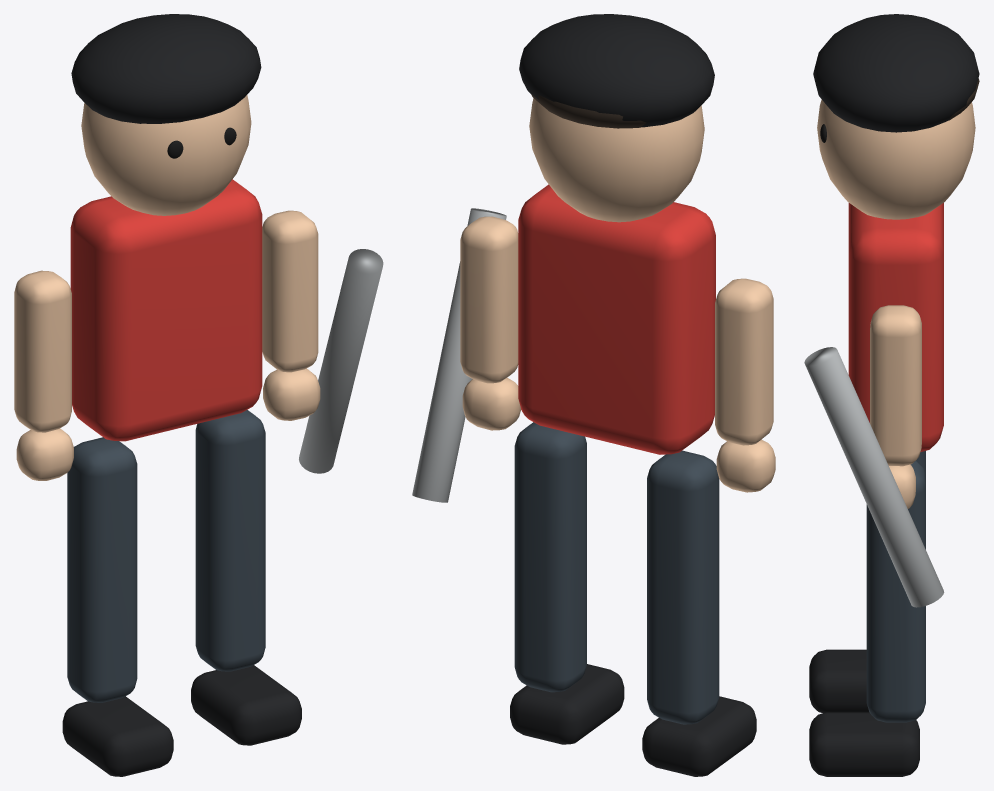
The model's file is cartoon_rioter.glb.
3 views of the same model, side by side, from view 1: azimuth 30°, elevation 25°; view 2: azimuth 150°, elevation 25°; view 3: azimuth 270°, elevation 25° (orthographic). The views are drawn at different scales.
Parts seen in each view (by area): view 1: rioter_torso, rioter_leg_L, rioter_leg_R, rioter_helmet, rioter_head, rioter_upper_arm_L, rioter_upper_arm_R, rioter_prop_bat, rioter_foot_mesh_L, rioter_foot_mesh_R, rioter_hand_R.001, rioter_hand_L.001; view 2: rioter_torso, rioter_leg_L, rioter_leg_R, rioter_helmet, rioter_head, rioter_upper_arm_R, rioter_upper_arm_L, rioter_prop_bat, rioter_foot_mesh_R, rioter_foot_mesh_L, rioter_hand_L.001, rioter_hand_R.001 (+1 smaller); view 3: rioter_helmet, rioter_torso, rioter_head, rioter_leg_R, rioter_prop_bat, rioter_upper_arm_R, rioter_foot_mesh_R, rioter_foot_mesh_L, rioter_hand_R.001.
Part boxes in pixels (x1,y1,x2,y2): rioter_torso: [70, 179, 262, 441]; rioter_leg_L: [67, 437, 137, 702]; rioter_leg_R: [195, 410, 265, 671]; rioter_helmet: [71, 14, 261, 123]; rioter_head: [81, 95, 251, 215]; rioter_upper_arm_L: [14, 270, 71, 432]; rioter_upper_arm_R: [262, 210, 318, 372]; rioter_prop_bat: [299, 249, 383, 473]; rioter_foot_mesh_L: [62, 696, 173, 776]; rioter_foot_mesh_R: [191, 665, 301, 745]; rioter_hand_R.001: [263, 368, 320, 420]; rioter_hand_L.001: [16, 428, 73, 480]; rioter_torso: [518, 184, 715, 454]; rioter_leg_L: [647, 450, 719, 724]; rioter_leg_R: [514, 422, 586, 692]; rioter_helmet: [519, 14, 714, 127]; rioter_head: [529, 98, 704, 222]; rioter_upper_arm_R: [460, 216, 518, 383]; rioter_upper_arm_L: [715, 278, 773, 445]; rioter_prop_bat: [412, 208, 506, 502]; rioter_foot_mesh_R: [510, 664, 624, 744]; rioter_foot_mesh_L: [642, 696, 756, 776]; rioter_hand_L.001: [716, 439, 775, 492]; rioter_hand_R.001: [462, 377, 521, 430]; rioter_helmet: [813, 14, 979, 132]; rioter_torso: [848, 203, 943, 451]; rioter_head: [817, 99, 975, 219]; rioter_leg_R: [866, 461, 925, 722]; rioter_prop_bat: [804, 347, 944, 607]; rioter_upper_arm_R: [870, 305, 921, 466]; rioter_foot_mesh_R: [809, 712, 919, 776]; rioter_foot_mesh_L: [809, 649, 868, 713]; rioter_hand_R.001: [889, 464, 915, 508].
Size of the model in its own units: 0.958 by 1.96 by 0.442.
